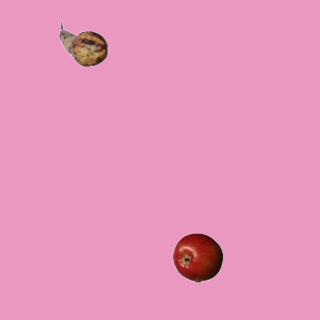Apple Braeburn: (172, 232, 222, 282)
Pear Abate: (58, 19, 108, 69)
